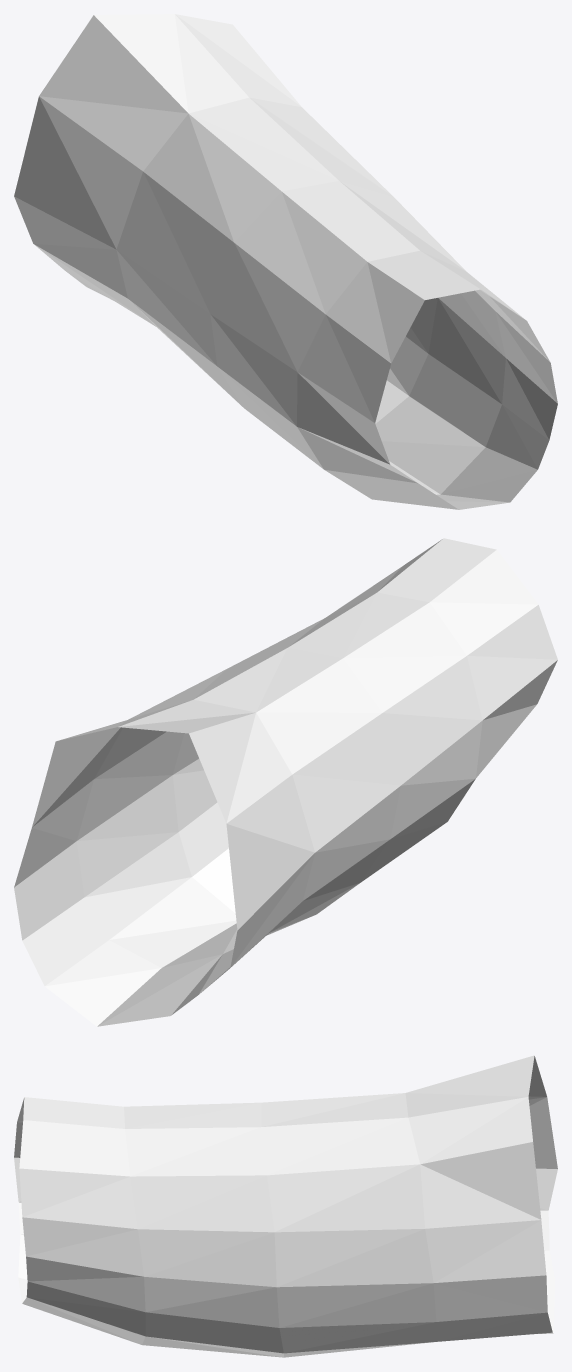
The model's file is r_lowerleg.dae.
The picture shows the model from 3 angles, top to bottom: view 1: azimuth 30°, elevation 25°; view 2: azimuth 150°, elevation 25°; view 3: azimuth 270°, elevation 25°; orthographic projection. The views are drawn at different scales.
Visible parts, largest first — view 1: node; view 2: node; view 3: node.
Part boxes in pixels (bbox=[...]): node: bbox=[14, 14, 557, 509]; node: bbox=[14, 538, 557, 1026]; node: bbox=[14, 1055, 557, 1357].
Size of the model in its own units: 0.1375 by 0.1788 by 0.3358.
Materials: 1 (1 with a texture image).
